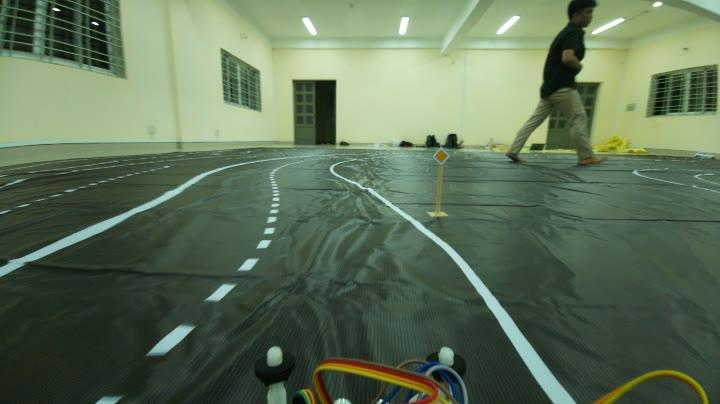priority: (431, 143, 452, 168)
